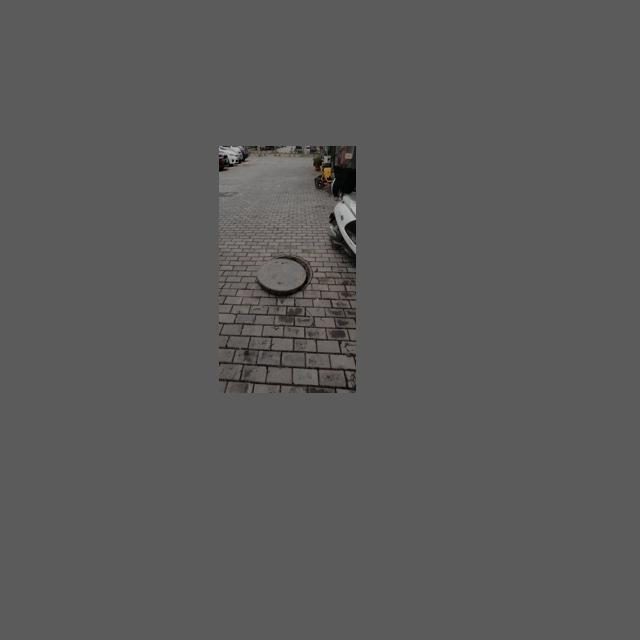uncovered: (255, 250, 316, 300)
